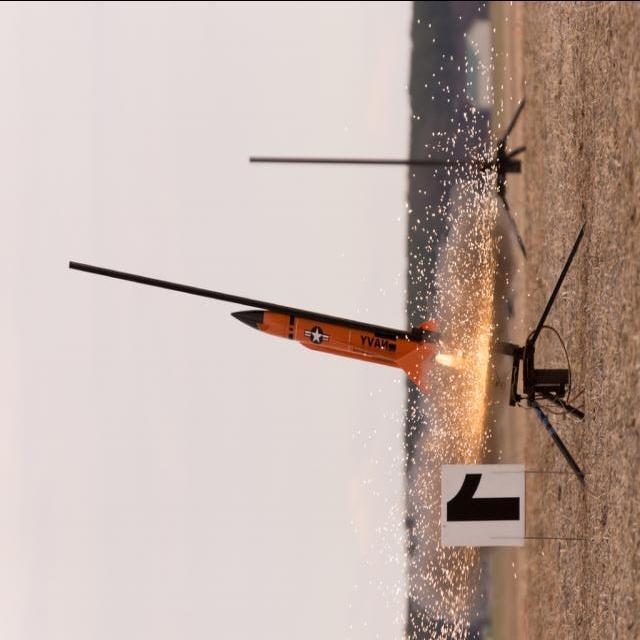missile: (220, 304, 437, 388)
